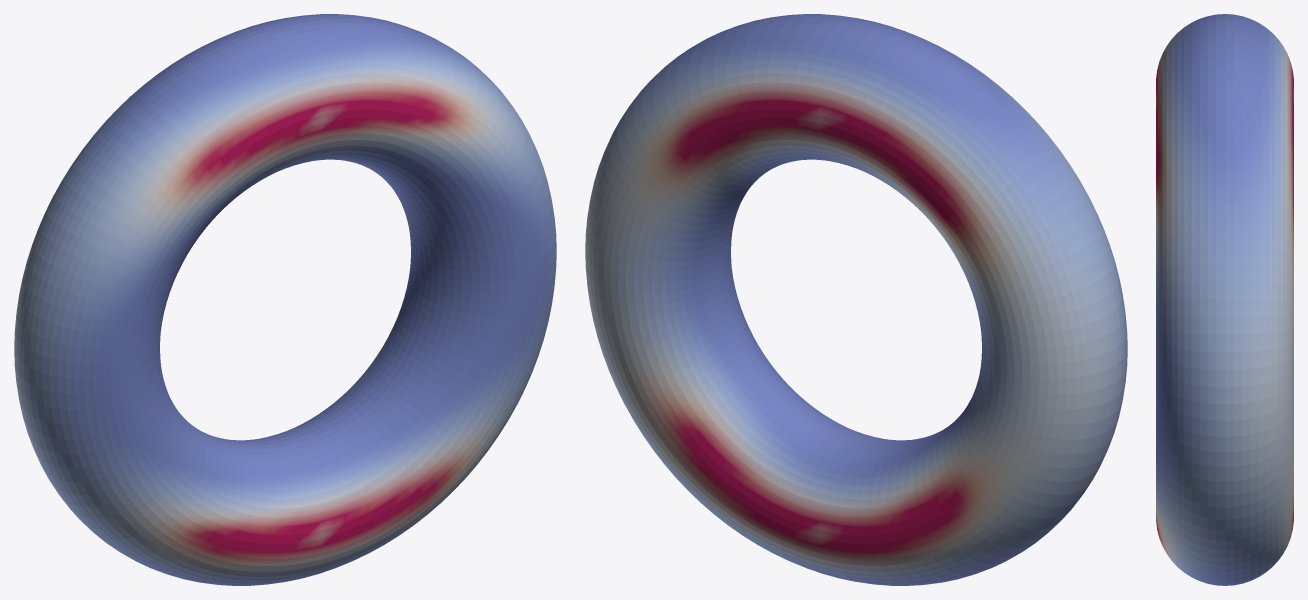
3 views of the same model, side by side, from view 1: azimuth 30°, elevation 25°; view 2: azimuth 150°, elevation 25°; view 3: azimuth 270°, elevation 25° (orthographic). The views are drawn at different scales.
Parts seen in each view (by area): view 1: world; view 2: world; view 3: world.
Boxes of the visible parts, x1,y1,x2,y2 form: world: [14, 14, 556, 585]; world: [585, 14, 1127, 585]; world: [1156, 14, 1293, 585].
Size of the model in its own units: 19.33 by 19.33 by 4.66.
